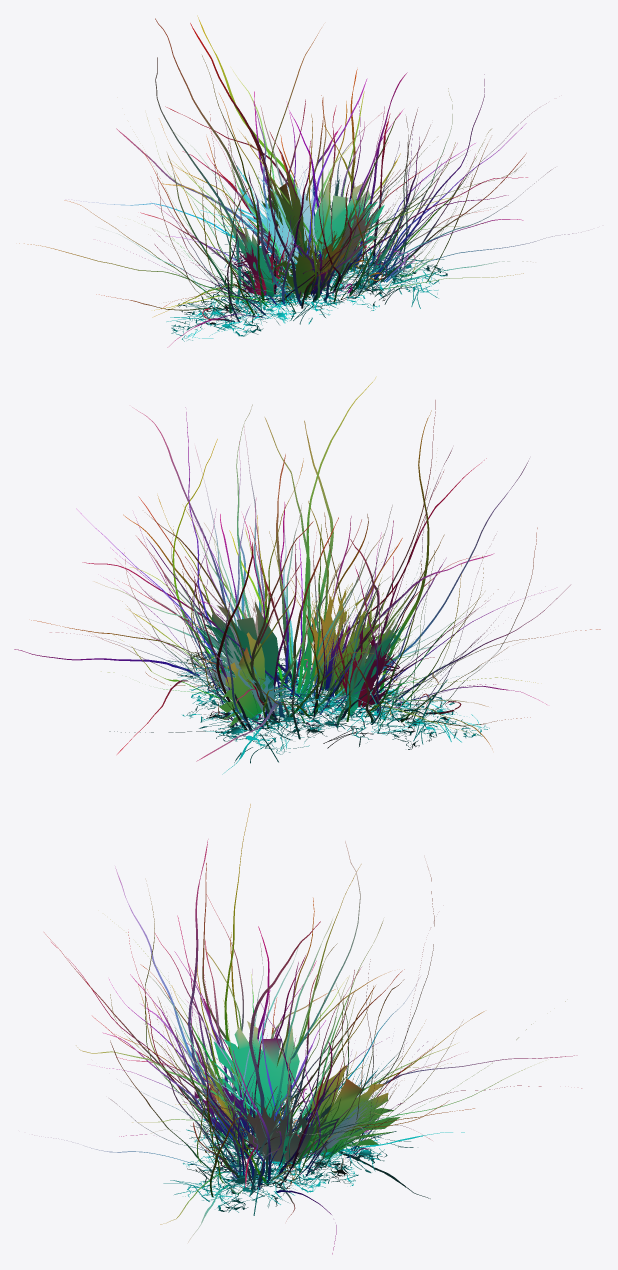
The model's file is Wild_Grass_vczndjqja_Raw_vczndjqja_VarD_LOD0.fbx.
3 views of the same model, one above another, from view 1: azimuth 30°, elevation 25°; view 2: azimuth 150°, elevation 25°; view 3: azimuth 270°, elevation 25° (orthographic). The views are drawn at different scales.
Parts seen in each view (by area): view 1: _xsbo_VarD_High; view 2: _xsbo_VarD_High; view 3: _xsbo_VarD_High.
Part boxes in pixels (box(x1,y1,x2,y2)): _xsbo_VarD_High: box(19, 15, 588, 347); _xsbo_VarD_High: box(14, 376, 600, 774); _xsbo_VarD_High: box(32, 804, 581, 1254).
Size of the model in its own units: 138 by 76.95 by 142.
